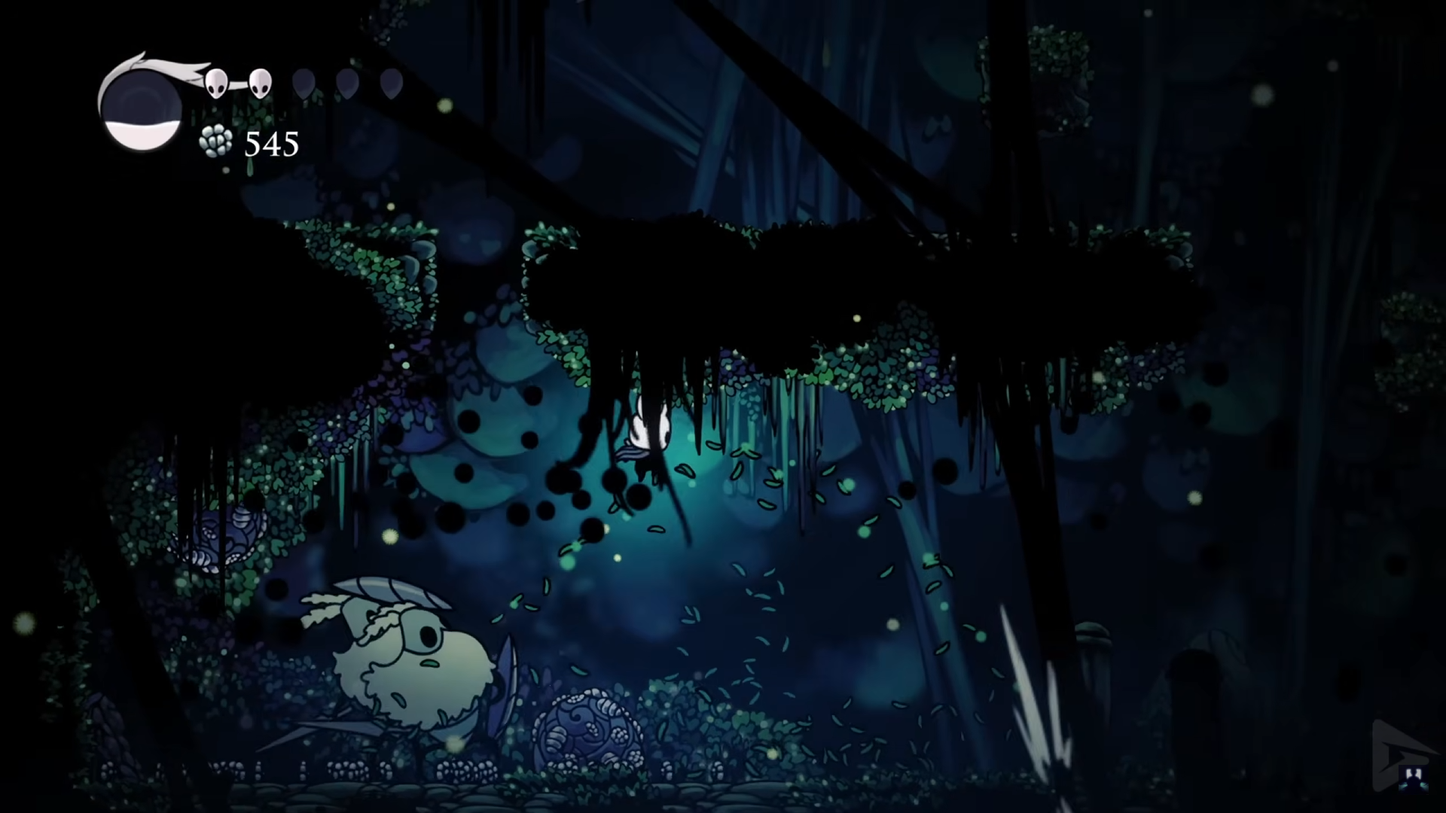HK: (615, 394, 672, 483)
